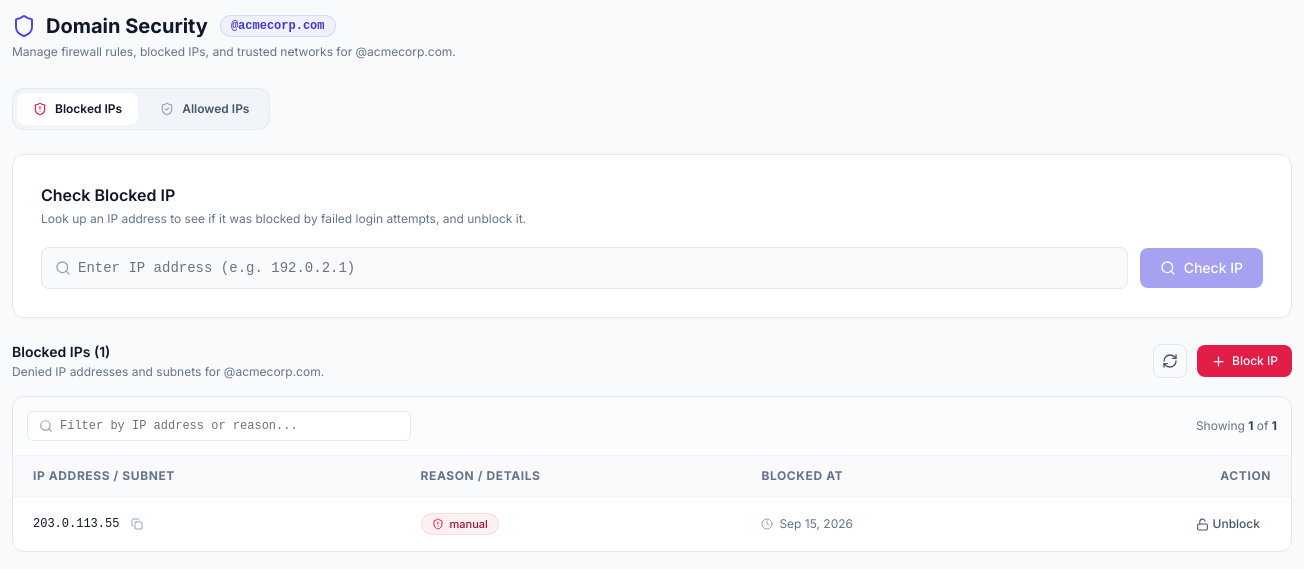
Scenario: DomainSecurityView Component (Per-Domain IP Security) › switches to Allowed IPs sub-tab and displays whitelisted entries for domain
This screenshot has width=1304, height=569.
Click the button "Allowed IPs".
click(205, 109)  # box x1=144 y1=93 x2=266 y2=125
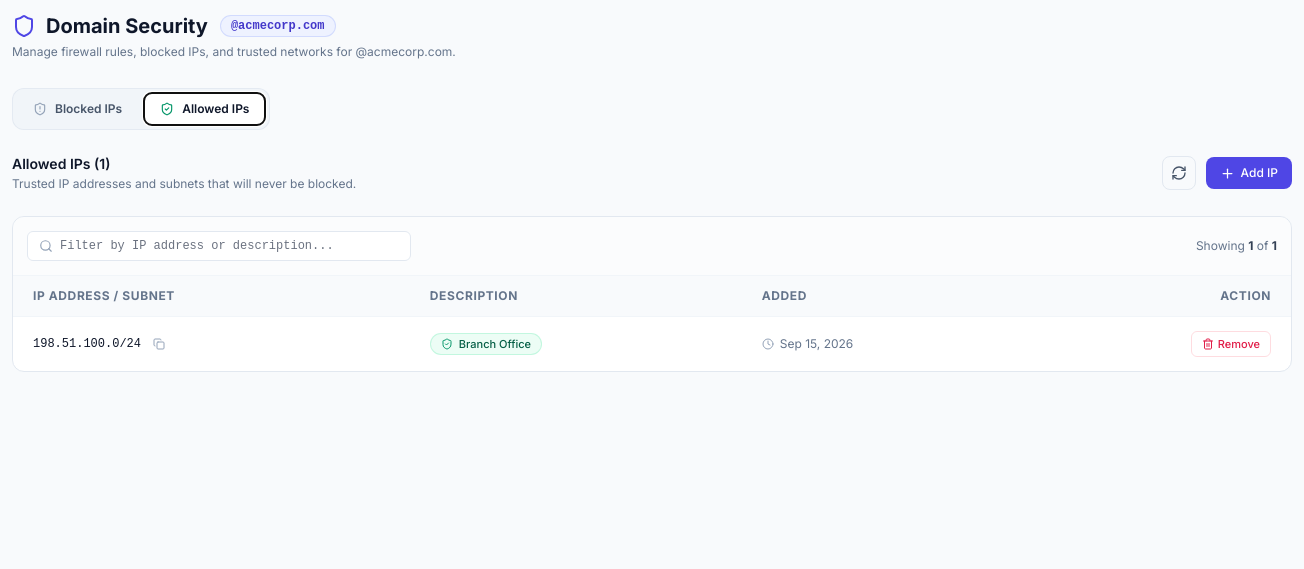
Expected: the heading "Allowed IPs (1)" is shown, x1=12 y1=155 x2=110 y2=172
Expected: the text "198.51.100.0/24" is shown, x1=33 y1=336 x2=141 y2=352
Expected: the text "Branch Office" is shown, x1=459 y1=336 x2=531 y2=352
